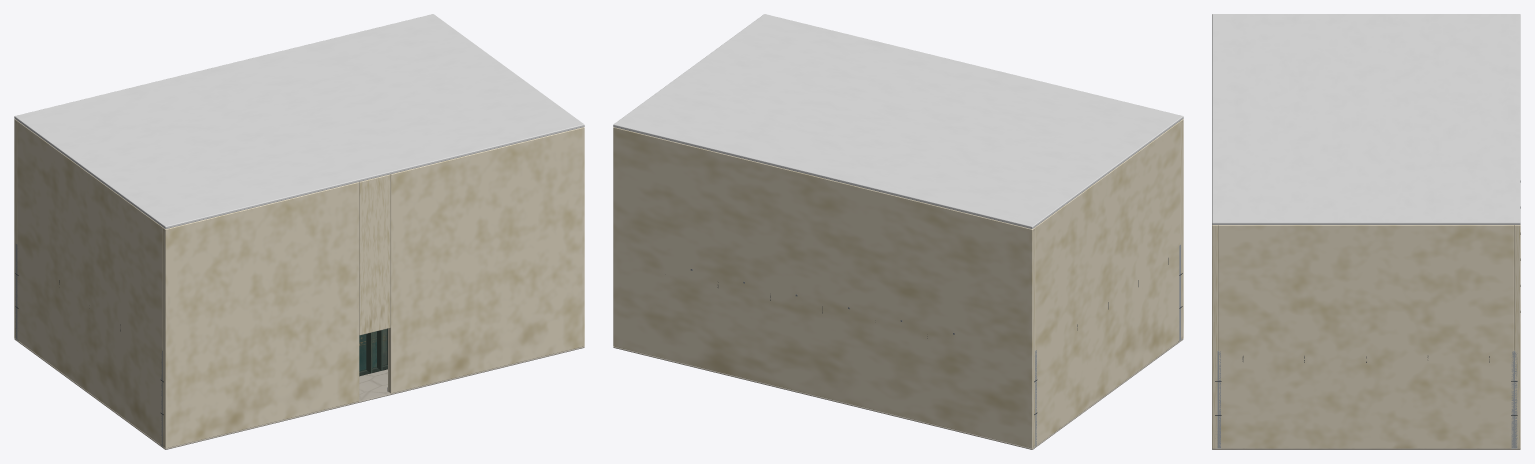
File: dist.glb
3 views of the same model, side by side, from view 1: azimuth 30°, elevation 25°; view 2: azimuth 150°, elevation 25°; view 3: azimuth 270°, elevation 25° (orthographic).
Visible parts, largest first — view 1: Ceiling, Wall_South_Left, Wall_South_Right, Wall_West, Wall_South_Lintel, Floor, T3_Body, Wall_North; view 2: Wall_North, Ceiling, Wall_West, Floor, Wall_South_Left; view 3: Wall_East, Ceiling, Wall_South_Right, Wall_North, Floor, WallTrunkV_EN, WallTrunkV_ES.
Part boxes in pixels (x1=…): Ceiling: x1=14, y1=14, x2=584, y2=228; Wall_South_Left: x1=162, y1=182, x2=359, y2=448; Wall_South_Right: x1=388, y1=127, x2=584, y2=393; Wall_West: x1=17, y1=121, x2=162, y2=445; Wall_South_Lintel: x1=359, y1=174, x2=390, y2=335; Floor: x1=14, y1=338, x2=584, y2=449; T3_Body: x1=359, y1=329, x2=387, y2=371; Wall_North: x1=14, y1=119, x2=17, y2=338; Wall_North: x1=613, y1=127, x2=1035, y2=448; Ceiling: x1=613, y1=14, x2=1183, y2=228; Wall_West: x1=1035, y1=121, x2=1180, y2=444; Floor: x1=613, y1=338, x2=1183, y2=449; Wall_South_Left: x1=1180, y1=119, x2=1183, y2=339; Wall_East: x1=1218, y1=225, x2=1514, y2=448; Ceiling: x1=1212, y1=14, x2=1520, y2=224; Wall_South_Right: x1=1212, y1=225, x2=1218, y2=448; Wall_North: x1=1514, y1=225, x2=1520, y2=448; Floor: x1=1212, y1=448, x2=1520, y2=449; WallTrunkV_EN: x1=1511, y1=351, x2=1517, y2=448; WallTrunkV_ES: x1=1215, y1=351, x2=1220, y2=448.
Bounding box in the file's own units: 16.02 × 8.15 × 10.01.
Materials: 29 (24 with a texture image).
